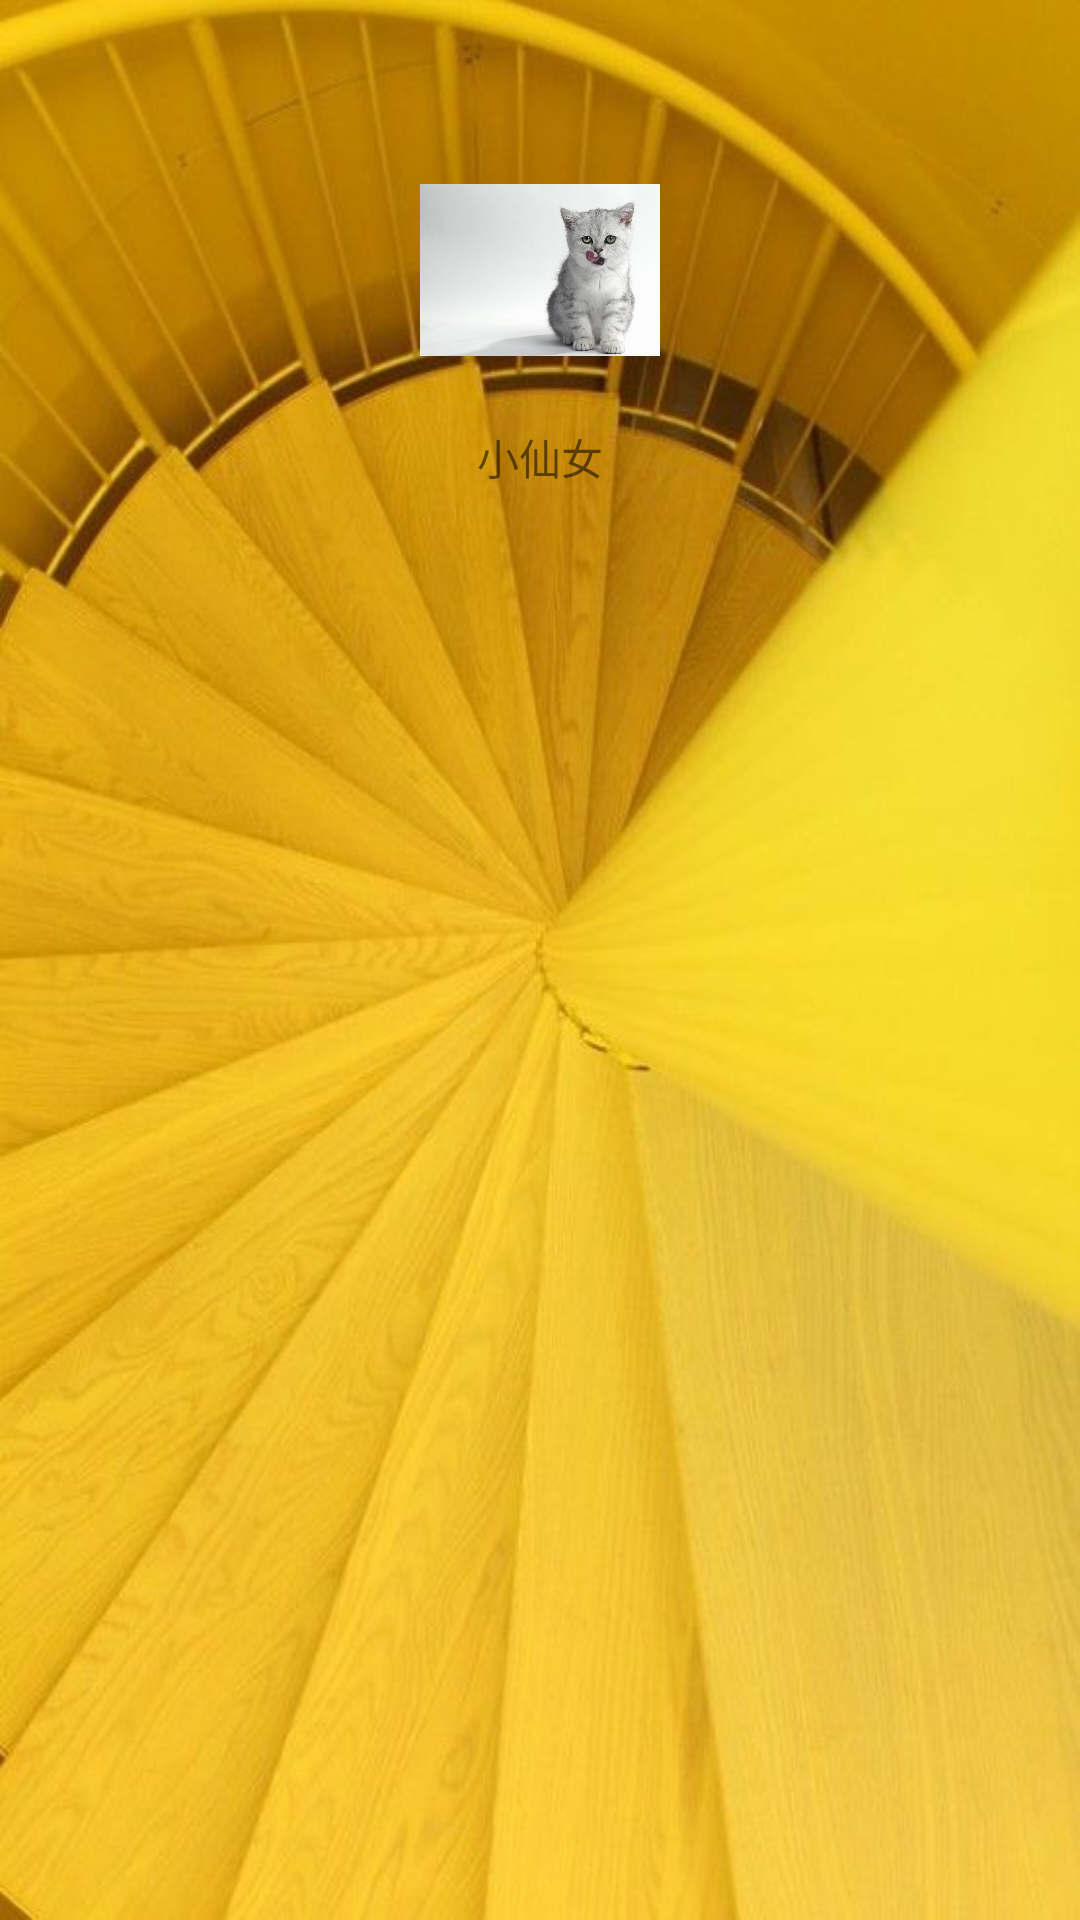

Icons on this 1080*1920 Android screen, each with the point to tap as [x,y]:
user: [540,270]
